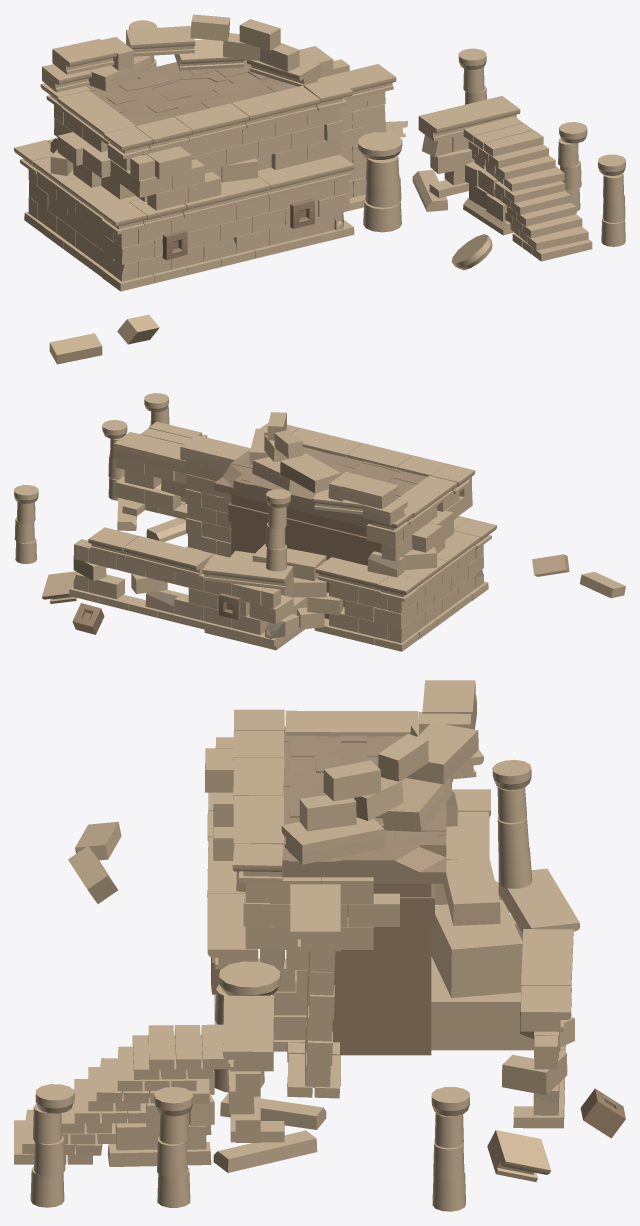
File: egypt_homebuilding.fbx
The picture shows the model from 3 angles, top to bottom: view 1: azimuth 30°, elevation 25°; view 2: azimuth 150°, elevation 25°; view 3: azimuth 270°, elevation 25°; orthographic projection. The views are drawn at different scales.
Visible parts, largest first — view 1: main, stairs, polySurface196, pCylinder41, pCylinder38, pCylinder40, polySurface195, pCylinder39, pCylinder27, pCylinder20, pCylinder37, pCylinder26 (+4 smaller); view 2: main, stairs, polySurface196, polySurface195, pCylinder34, pCylinder20, pCylinder29, pCylinder37, pCylinder35, pCylinder36; view 3: main, stairs, pCylinder41, polySurface195, polySurface196, pCylinder27, pCylinder34, pCylinder35, pCylinder1, pCylinder28, pCylinder2, pCylinder20 (+5 smaller).
Part boxes in pixels (x1,y1,x2,y2): main: [14, 14, 407, 291]; stairs: [412, 96, 592, 270]; polySurface196: [49, 333, 102, 364]; pCylinder41: [358, 132, 402, 159]; pCylinder38: [363, 200, 401, 232]; pCylinder40: [365, 155, 399, 186]; polySurface195: [117, 314, 159, 344]; pCylinder39: [365, 176, 401, 207]; pCylinder27: [601, 218, 625, 246]; pCylinder20: [559, 122, 587, 143]; pCylinder37: [458, 48, 486, 70]; pCylinder26: [603, 173, 623, 201]; main: [42, 412, 496, 651]; stairs: [113, 421, 207, 541]; polySurface196: [579, 571, 625, 598]; polySurface195: [532, 554, 569, 576]; pCylinder34: [15, 537, 36, 563]; pCylinder20: [102, 420, 127, 438]; pCylinder29: [144, 393, 168, 411]; pCylinder37: [14, 485, 38, 503]; pCylinder35: [14, 517, 34, 543]; pCylinder36: [17, 502, 35, 523]; main: [205, 680, 625, 1181]; stairs: [14, 995, 326, 1172]; pCylinder41: [219, 961, 280, 995]; polySurface195: [68, 845, 117, 903]; polySurface196: [75, 821, 121, 860]; pCylinder27: [30, 1166, 64, 1207]; pCylinder34: [432, 1172, 465, 1211]; pCylinder35: [433, 1143, 464, 1180]; pCylinder1: [157, 1167, 190, 1207]; pCylinder28: [34, 1136, 65, 1176]; pCylinder2: [157, 1137, 187, 1177]; pCylinder20: [154, 1086, 193, 1116].
Size of the model in its own units: 35.61 by 12.81 by 24.43.
